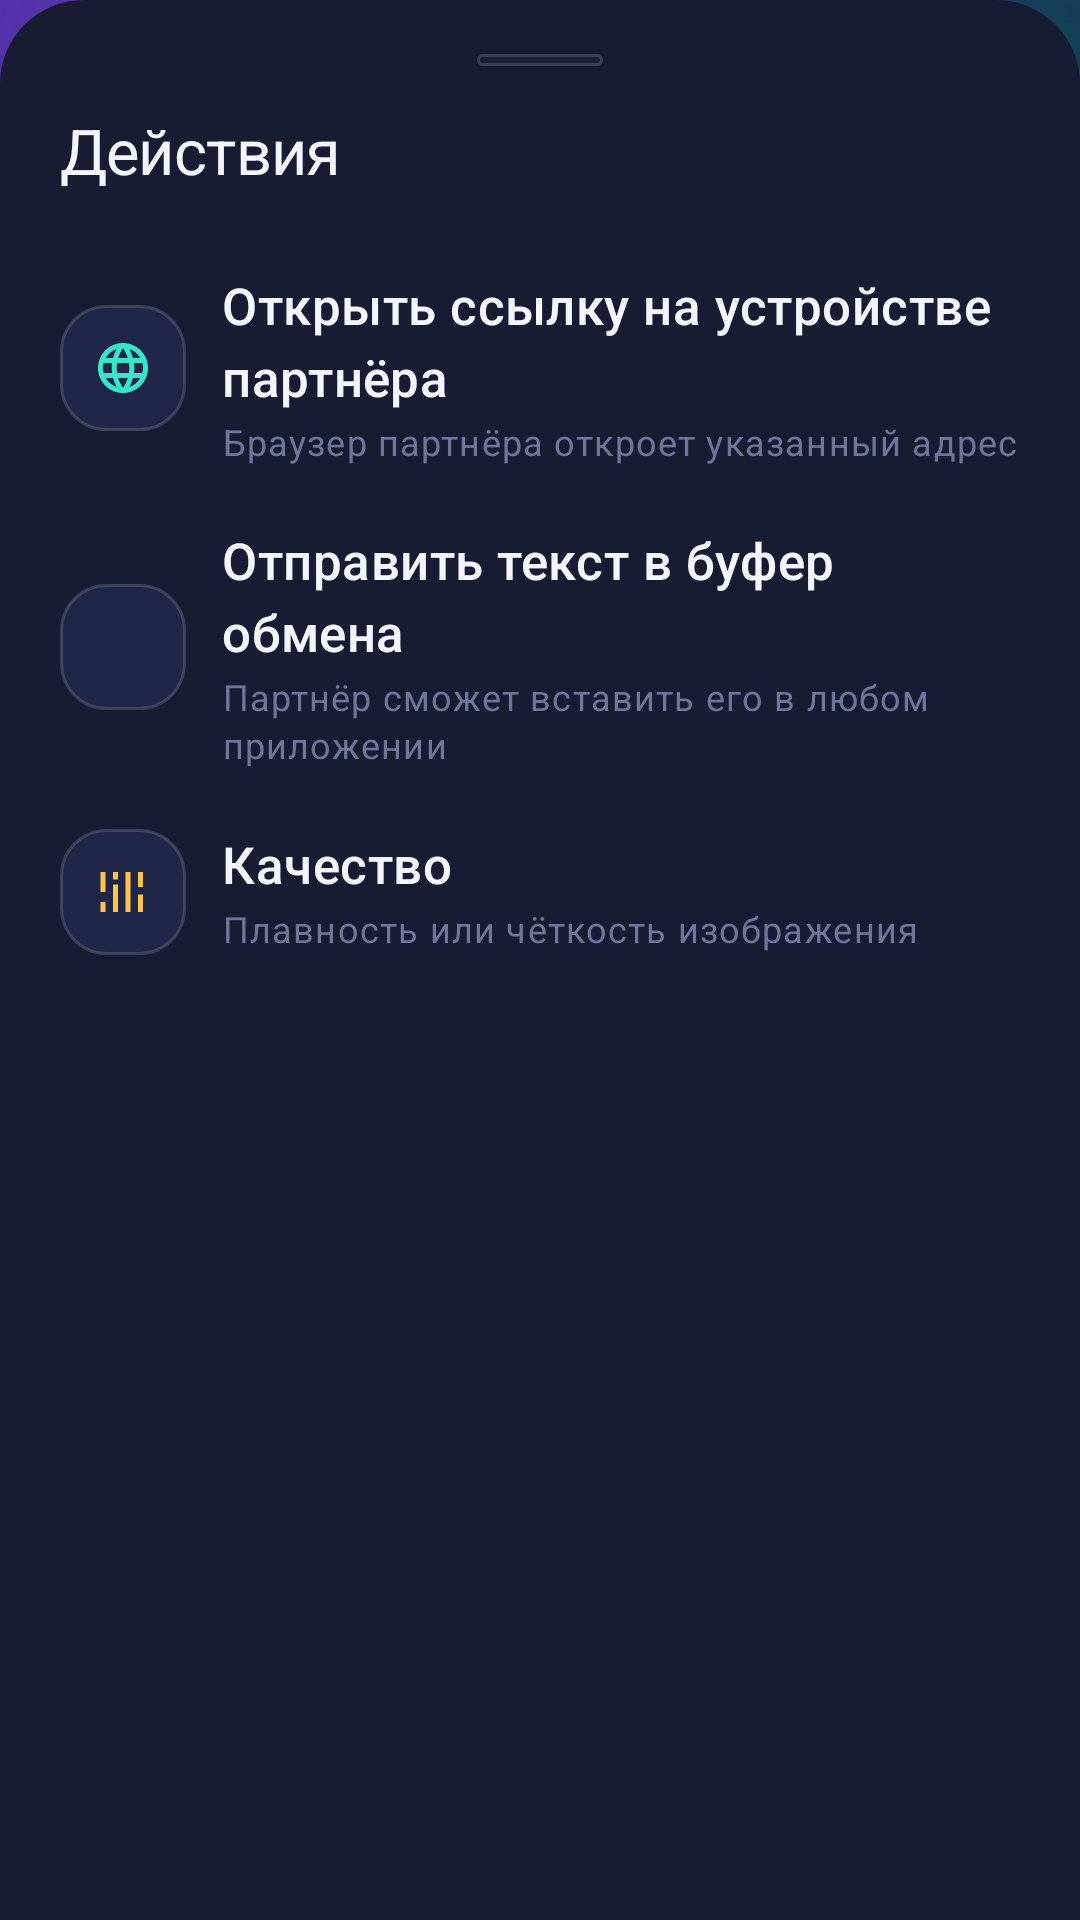

Named icons in this screenshot (1080 × 1920) and their centers, point (x, y):
globe: point (123, 368)
